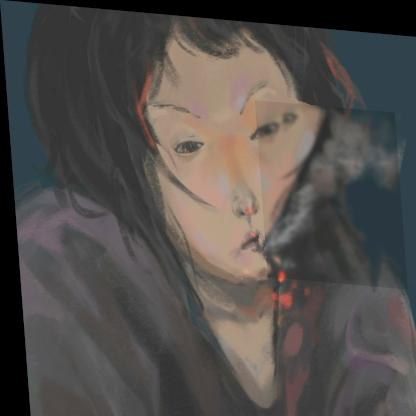smoke: (253, 95, 404, 282)
